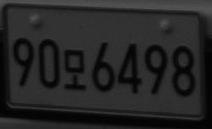0: (37, 37, 61, 90)
4: (116, 42, 142, 94)
6: (90, 41, 116, 92)
8: (170, 43, 197, 96)
9: (143, 43, 169, 95), (11, 36, 36, 87)
모: (62, 48, 86, 90)
